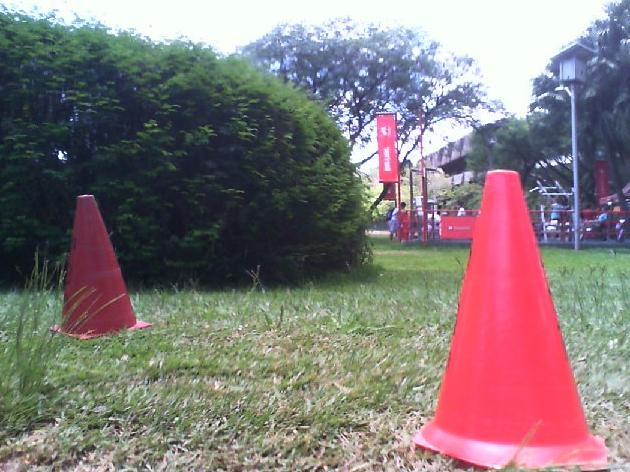0 cone: (411, 170, 607, 471), (49, 195, 153, 341)
